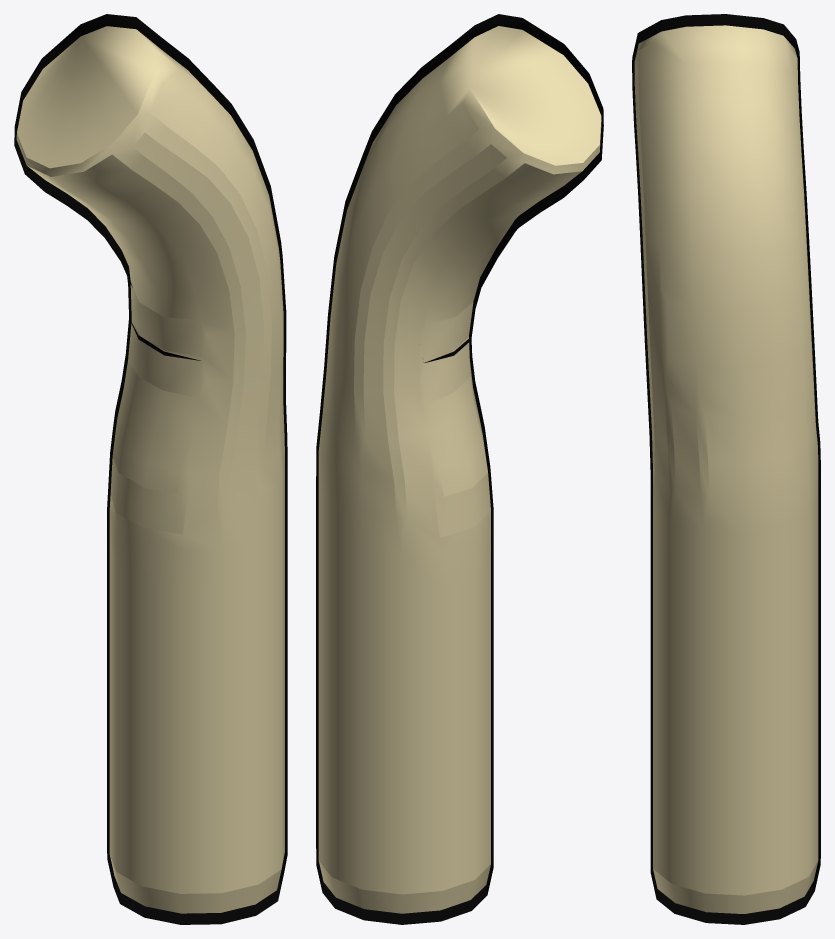
Rendered from Mozzerela.fbx.
3 renders of one model, left to right at view 1: azimuth 30°, elevation 25°; view 2: azimuth 150°, elevation 25°; view 3: azimuth 270°, elevation 25°, orthographic. The views are drawn at different scales.
Visible parts, largest first — view 1: Cylinder; view 2: Cylinder; view 3: Cylinder.
Boxes of the visible parts, x1=… form: Cylinder: x1=14, y1=14, x2=287, y2=924; Cylinder: x1=316, y1=14, x2=603, y2=924; Cylinder: x1=632, y1=14, x2=820, y2=924.
Bounding box in the file's own units: 218 × 726 × 147.
